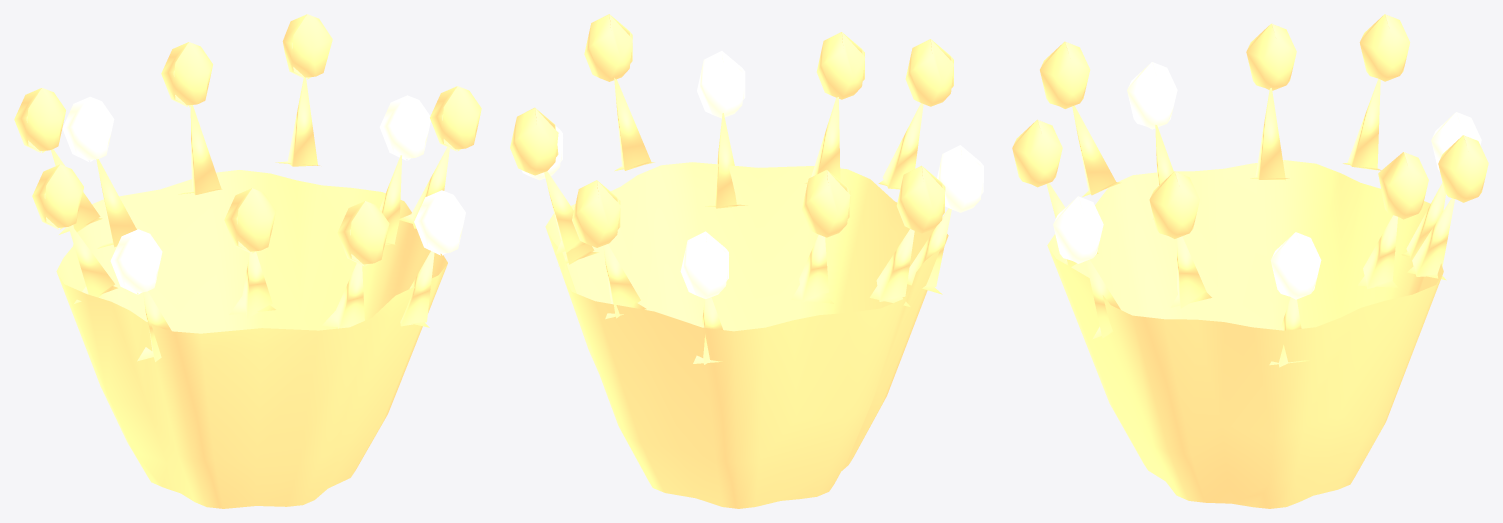
File: mwm_fx_splash.glb
The picture shows the model from 3 angles, left to right: view 1: azimuth 30°, elevation 25°; view 2: azimuth 150°, elevation 25°; view 3: azimuth 270°, elevation 25°; orthographic projection. The views are drawn at different scales.
Visible parts, largest first — view 1: collar, Sphere.008, Sphere.009, Sphere.003, Sphere.006, Sphere.004, Sphere.005, Sphere.002, Sphere.007, Sphere.010, Sphere, Sphere.001 (+11 smaller); view 2: collar, Sphere.002, Sphere.004, Sphere.010, Sphere.005, Sphere.009, Sphere.007, Sphere.008, Sphere.003, Sphere.001, Sphere.006, Cone.005 (+9 smaller); view 3: collar, Sphere.001, Sphere.009, Sphere.008, Sphere.007, Sphere.002, Sphere, Sphere.010, Sphere.004, Sphere.005, Sphere.006, Cone.002 (+10 smaller).
Part boxes in pixels (box(x1,y1,x2,y2)): collar: box(56, 170, 447, 508); Sphere.008: box(337, 201, 389, 266); Sphere.009: box(414, 190, 465, 255); Sphere.003: box(62, 96, 114, 161); Sphere.006: box(110, 229, 162, 294); Sphere.004: box(14, 88, 65, 152); Sphere.005: box(32, 164, 83, 229); Sphere.002: box(161, 42, 212, 107); Sphere.007: box(224, 188, 276, 253); Sphere.010: box(430, 86, 481, 151); Sphere: box(379, 95, 430, 160); Sphere.001: box(282, 14, 332, 79); collar: box(545, 162, 948, 508); Sphere.002: box(572, 180, 620, 247); Sphere.004: box(801, 169, 850, 237); Sphere.010: box(584, 14, 632, 81); Sphere.005: box(896, 165, 945, 233); Sphere.009: box(697, 51, 745, 118); Sphere.007: box(905, 39, 953, 106); Sphere.008: box(816, 32, 865, 99); Sphere.003: box(680, 231, 728, 298); Sphere.001: box(510, 107, 558, 175); Sphere.006: box(937, 145, 983, 212); Cone.005: box(869, 229, 914, 306); collar: box(1047, 160, 1443, 508); Sphere.001: box(1378, 152, 1428, 219); Sphere.009: box(1053, 196, 1103, 263); Sphere.008: box(1012, 119, 1062, 187); Sphere.007: box(1040, 41, 1090, 108); Sphere.002: box(1438, 135, 1488, 202); Sphere: box(1270, 232, 1321, 299); Sphere.010: box(1149, 171, 1199, 238); Sphere.004: box(1359, 14, 1410, 81); Sphere.005: box(1246, 23, 1296, 90); Sphere.006: box(1127, 62, 1177, 129); Cone.002: box(1407, 198, 1454, 280).
Bounding box in the file's own units: 1.38 × 1.21 × 1.38.
